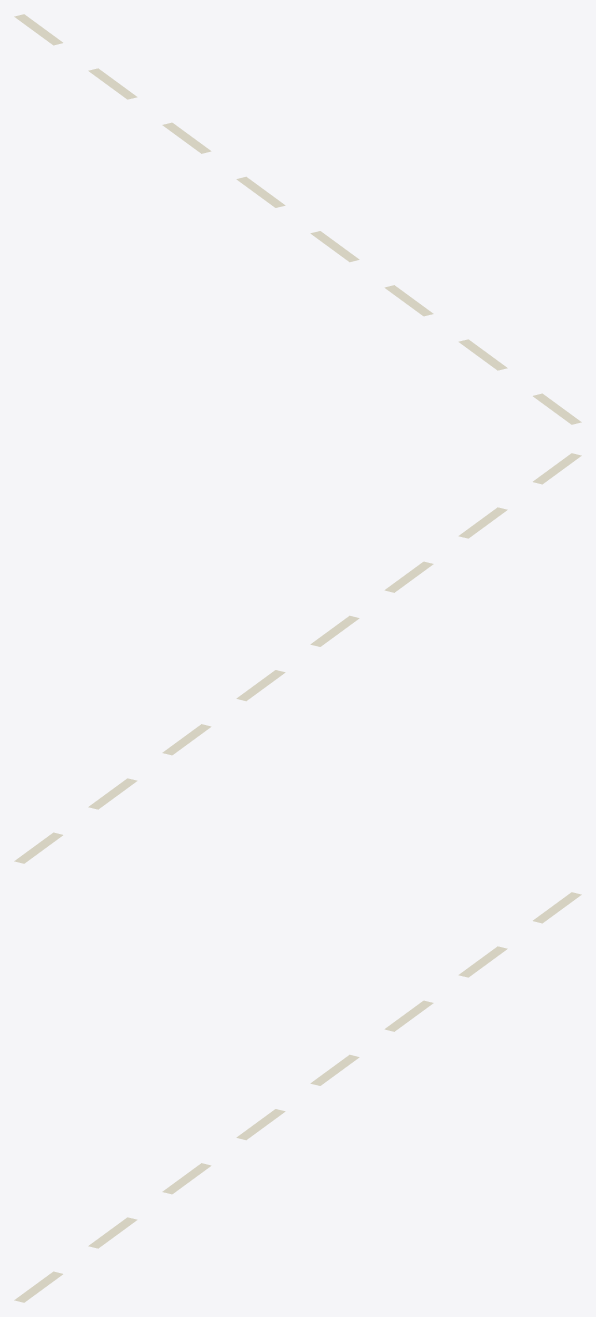
Rendered from LaneMarkings.obj.
3 renders of one model, top to bottom at view 1: azimuth 30°, elevation 25°; view 2: azimuth 150°, elevation 25°; view 3: azimuth 330°, elevation 25°, orthographic.
Visible parts, largest first — view 1: LaneMarkings; view 2: LaneMarkings; view 3: LaneMarkings.
Boxes of the visible parts, left/top/right/bottom form: LaneMarkings: left=14, top=14, right=581, bottom=424; LaneMarkings: left=14, top=453, right=581, bottom=863; LaneMarkings: left=14, top=892, right=581, bottom=1302.
Size of the model in its own units: 0.12 by 0 by 11.3.
